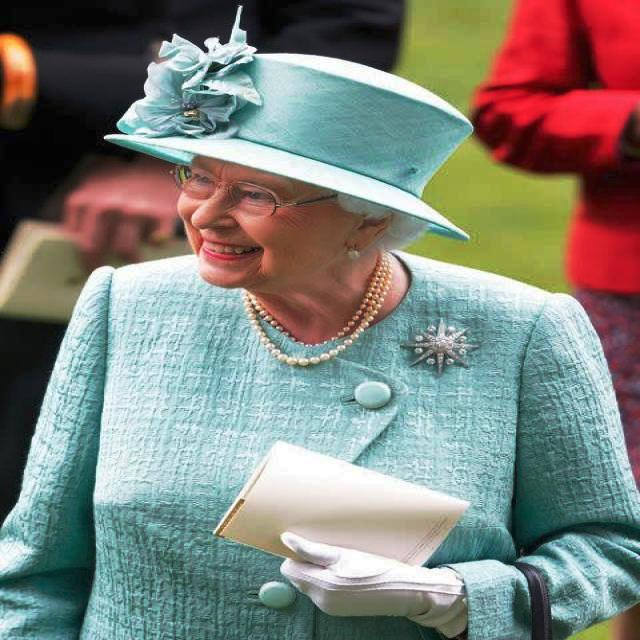TOPI: (102, 3, 473, 244)
